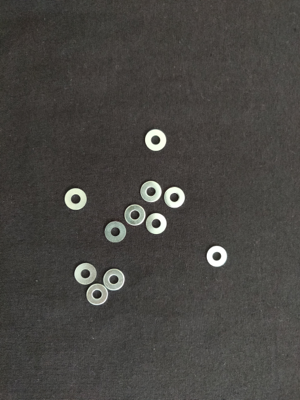circle: (63, 187, 89, 212), (138, 179, 164, 204), (122, 203, 148, 228), (143, 211, 169, 236), (73, 262, 99, 287), (102, 268, 128, 293), (144, 128, 169, 153), (162, 185, 187, 210), (103, 220, 128, 245), (205, 244, 230, 269), (85, 282, 110, 307)
